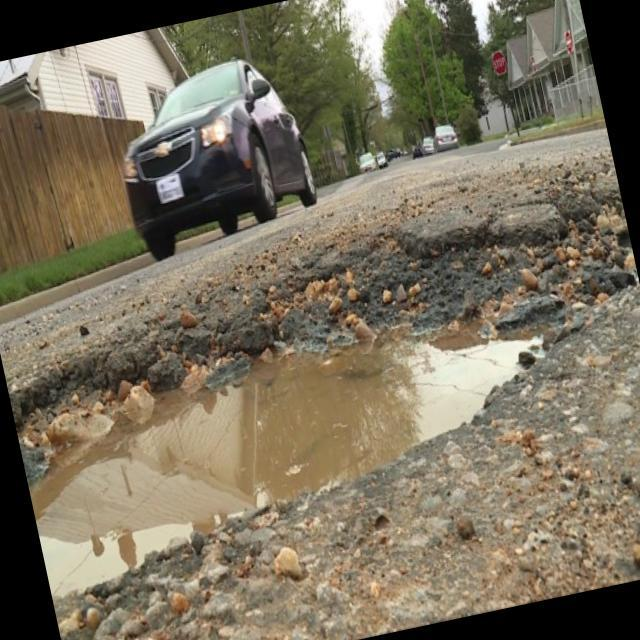Pothole: (3, 253, 577, 586)
